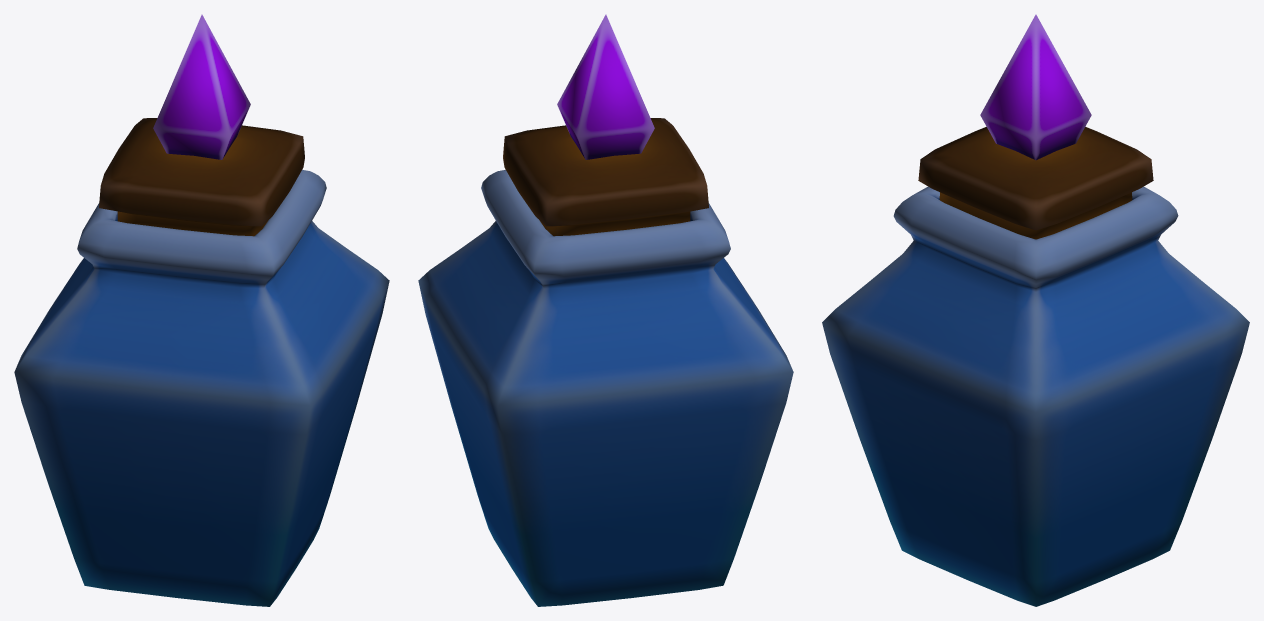
The model's file is box_potion.glb.
The picture shows the model from 3 angles, left to right: view 1: azimuth 30°, elevation 25°; view 2: azimuth 150°, elevation 25°; view 3: azimuth 270°, elevation 25°; orthographic projection.
Visible parts, largest first — view 1: potion_02_low, potion_04_low, potion_05_low; view 2: potion_02_low, potion_04_low, potion_05_low; view 3: potion_02_low, potion_04_low, potion_05_low.
Boxes of the visible parts, x1,y1,x2,y2 form: potion_02_low: (14,170,389,606); potion_04_low: (99,118,304,236); potion_05_low: (153,14,250,159); potion_02_low: (418,170,793,606); potion_04_low: (503,118,708,236); potion_05_low: (557,14,654,159); potion_02_low: (822,186,1249,606); potion_04_low: (918,127,1153,239); potion_05_low: (980,14,1091,160).
Size of the model in its own units: 0.1424 by 0.1988 by 0.1424.
4 materials, 4 textured.
